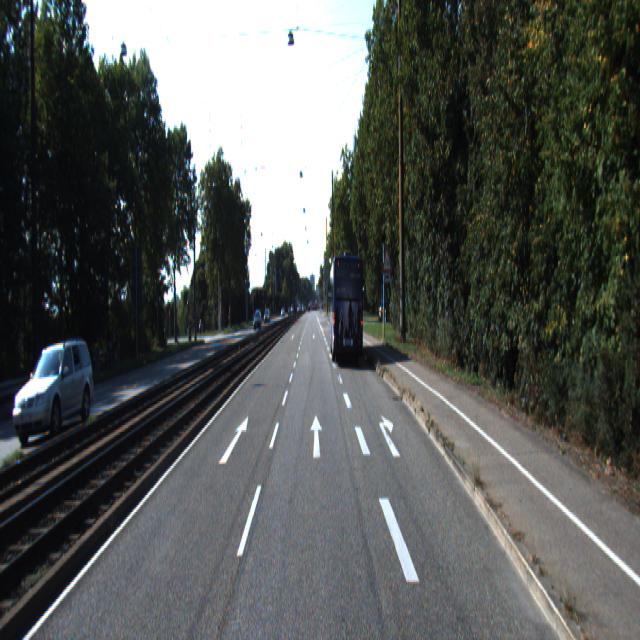Car: (12, 332, 100, 445), (330, 249, 364, 364)
